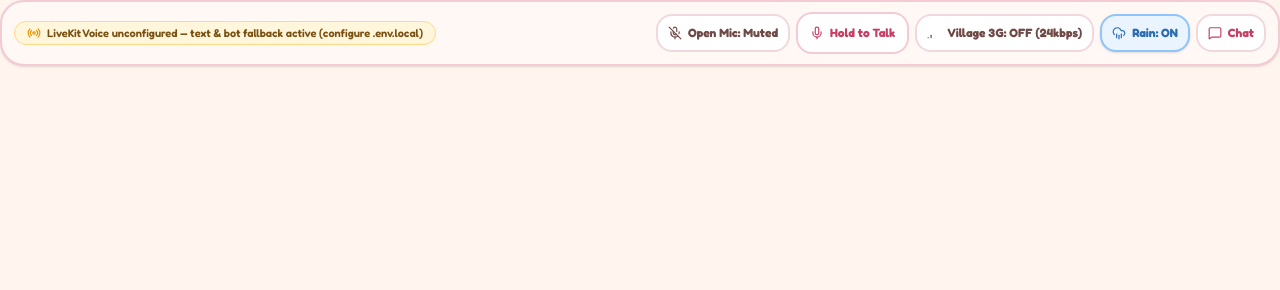
components/VoiceBar (F-18, F-19, F-20, F-21, F-22) › falls back gracefully to setup banner without console.error when token endpoint returns 503
Expected: the message "LiveKit Voice unconfigured — text & bot fallback active (configure .env.local)" is shown, [14,21,436,45]
Note: Open chat drawer and verify controlled chatMessages render
Click the button with test id "chat-toggle-button". click: (1231, 33)
box: [1196,14,1266,52]
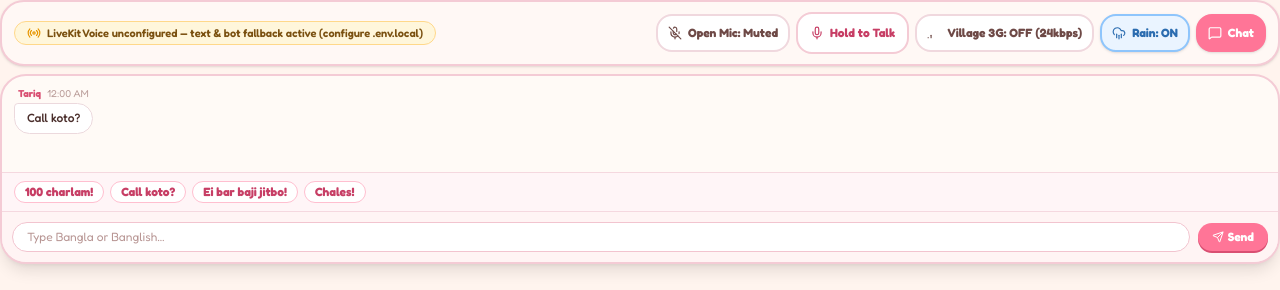
Now the element with test id "chat-drawer" shows "Tariq", box [18,87,41,99]
Now the element with test id "chat-drawer" shows "Call koto?", box [27,110,80,125]
